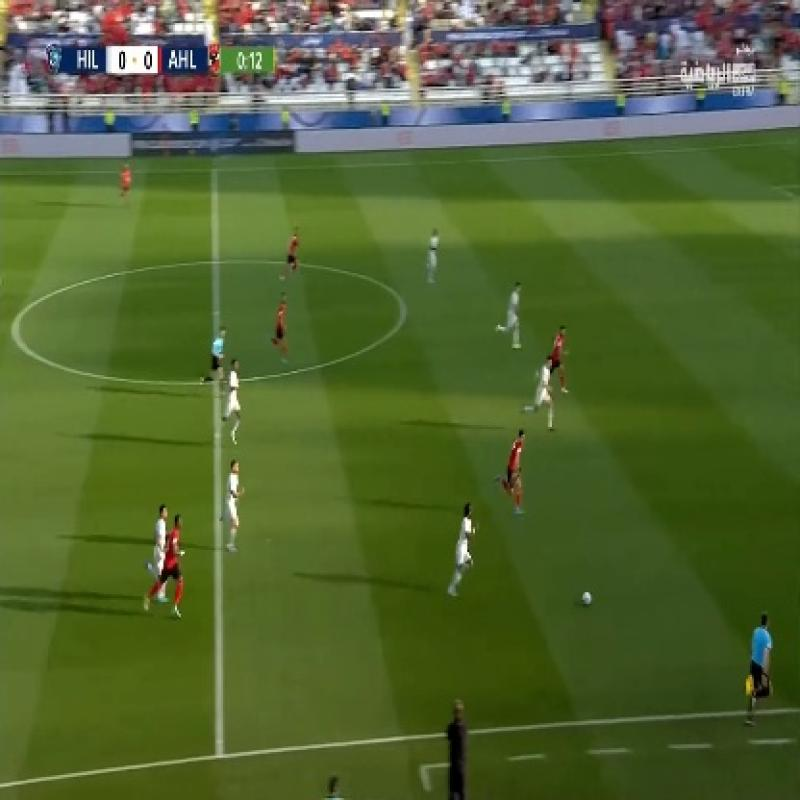13: (204, 156, 223, 182)
14: (200, 245, 231, 278)
16: (202, 728, 235, 770)
9: (769, 173, 794, 200)
c: (380, 286, 428, 331), (0, 300, 34, 360)
